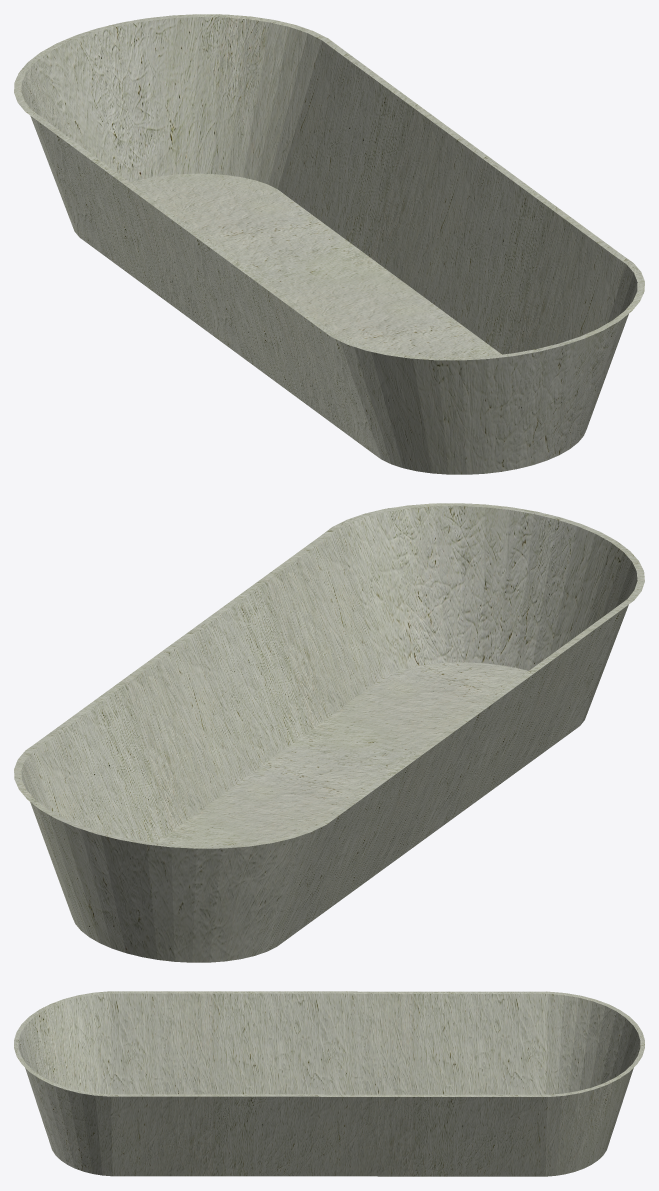
File: Bath.FBX
The picture shows the model from 3 angles, top to bottom: view 1: azimuth 30°, elevation 25°; view 2: azimuth 150°, elevation 25°; view 3: azimuth 270°, elevation 25°; orthographic projection. The views are drawn at different scales.
Parts seen in each view (by area): view 1: Line002; view 2: Line002; view 3: Line002.
Part boxes in pixels (x1,y1,x2,y2): Line002: [14, 14, 644, 474]; Line002: [14, 503, 644, 962]; Line002: [14, 991, 644, 1176].
Size of the model in its own units: 56.32 by 24.26 by 142.
Materials: 1 (1 with a texture image).
